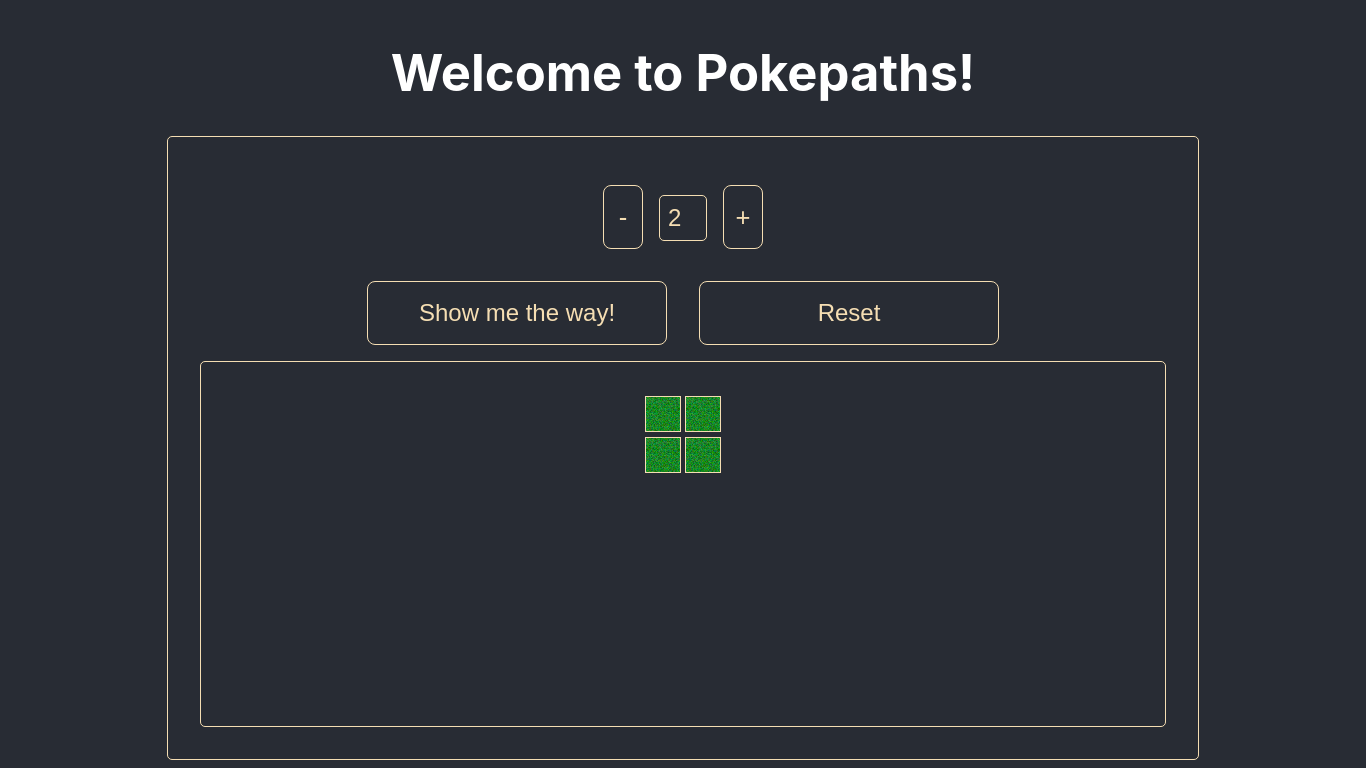
Scenario: renders different size grid when size controls are clicked
The width and height of the screenshot is (1366, 768).
Click the button "+" at (743, 218), box [723,186,763,250]
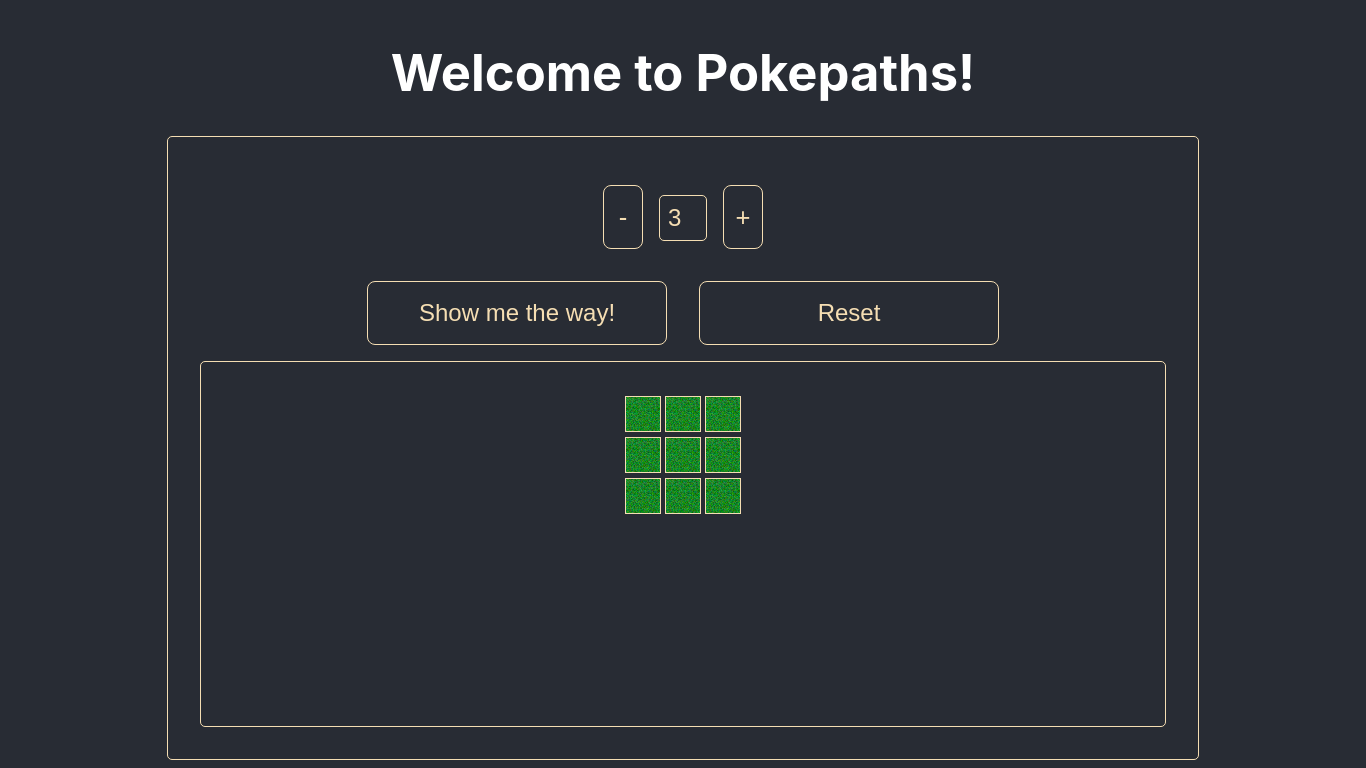
Result: the number of buttons with class "grass" is 9
